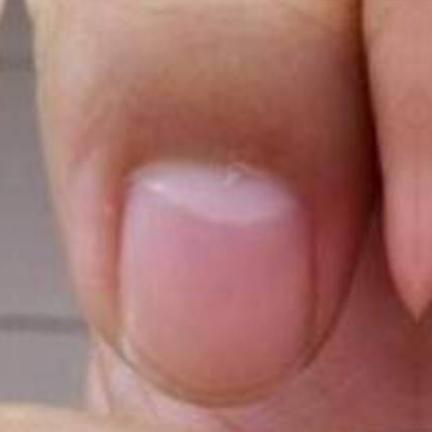Nail: (119, 151, 312, 399)
